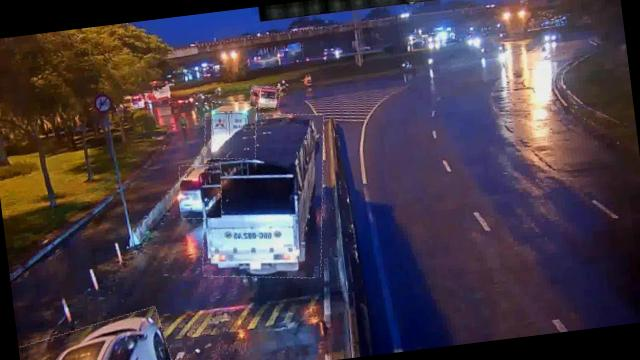Bus: (248, 84, 281, 110)
Car: (16, 310, 172, 360), (176, 160, 226, 221)
Truck: (188, 103, 337, 287), (206, 98, 261, 162)
